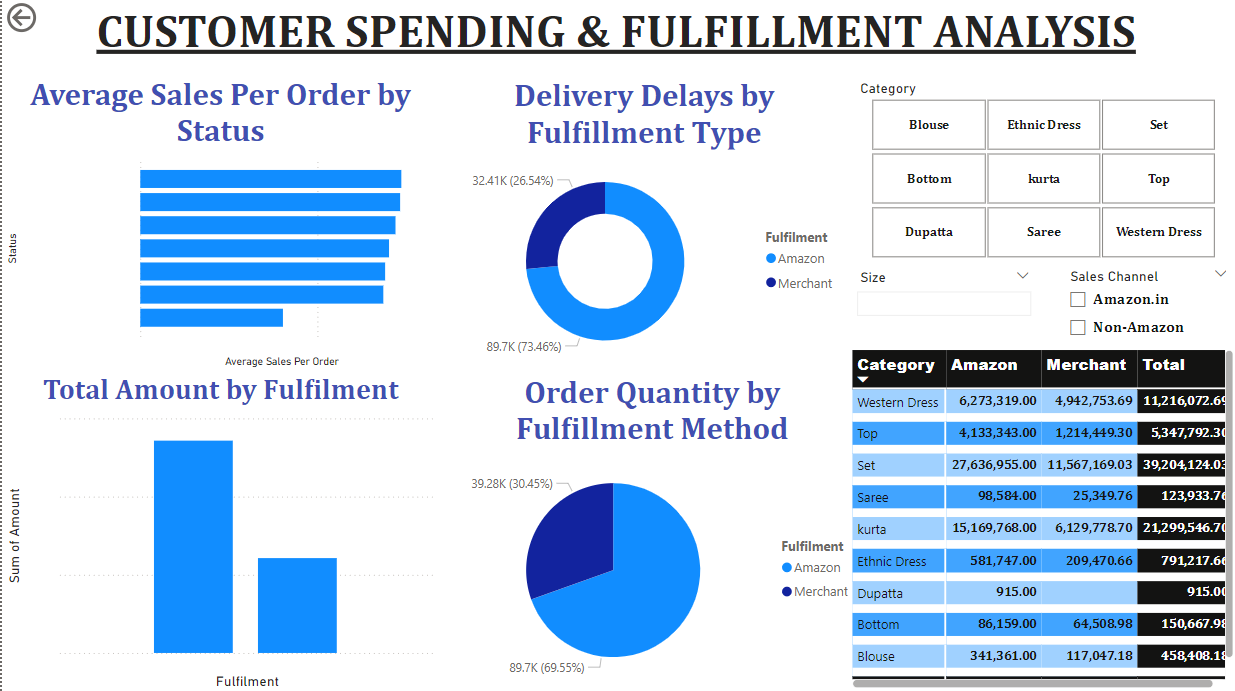

What the dashboard file says about the page in this screenshot:
{"tool":"powerbi","page":{"name":"Page 2","canvas":[1280,720],"ordinal":1},"visuals":[{"type":"textbox","box":[10,0,1251.2,79.9],"z":0},{"type":"barChart","fields":{"Y":["Amazon Sale Report.Average Sales Per Order"],"Category":["Amazon Sale Report.Status"]},"box":[0,79.9,452.6,307.8],"z":1000},{"type":"actionButton","box":[0,0,100,40],"z":2000},{"type":"slicer","fields":{"Values":["Amazon Sale Report.Category"]},"box":[875.4,79.2,404.4,195.9],"z":3000},{"type":"columnChart","title":"Total Amount by Fulfilment","fields":{"Category":["Amazon Sale Report.Fulfilment"],"Y":["Sum(Amazon Sale Report.Amount)"]},"box":[0,386.3,453,333.5],"z":4000},{"type":"pieChart","title":"Order Quantity by Fulfillment Method","fields":{"Category":["Amazon Sale Report.Fulfilment"],"Y":["CountNonNull(Amazon Sale Report.Order ID)"]},"box":[453,387.7,439.1,332.1],"z":5000},{"type":"donutChart","title":" Delivery Delays by Fulfillment Type","fields":{"Category":["Amazon Sale Report.Fulfilment"],"Y":["CountNonNull(Amazon Sale Report.Courier Status)"]},"box":[453,80.6,422.4,307.1],"z":6000},{"type":"slicer","fields":{"Values":["Amazon Sale Report.Sales Channel "]},"box":[1092.2,273.7,187.6,86.2],"z":7000},{"type":"pivotTable","fields":{"Columns":["Amazon Sale Report.Fulfilment"],"Values":["Sum(Amazon Sale Report.Amount)"],"Rows":["Amazon Sale Report.Category"]},"box":[875.4,359.9,404.4,359.9],"z":8000},{"type":"slicer","fields":{"Values":["Amazon Sale Report.Size"]},"box":[875.4,275.1,200.1,61.1],"z":9000}]}

Visuals, with their boxes in screenshot pixels (x1, y1, x2, y2), scaled from the page's 1280x720 canvas onto the 1235x691 screenshot:
textbox: rect(10, 0, 1217, 77)
barChart - Amazon Sale Report.Average Sales Per Order x Amazon Sale Report.Status: rect(0, 77, 437, 372)
actionButton: rect(0, 0, 96, 38)
slicer - Amazon Sale Report.Category: rect(845, 76, 1234, 264)
"Total Amount by Fulfilment" columnChart: rect(0, 371, 437, 690)
"Order Quantity by Fulfillment Method" pieChart: rect(437, 372, 861, 690)
" Delivery Delays by Fulfillment Type" donutChart: rect(437, 77, 845, 372)
slicer - Amazon Sale Report.Sales Channel : rect(1054, 263, 1234, 345)
pivotTable - Amazon Sale Report.Fulfilment x Sum(Amazon Sale Report.Amount): rect(845, 345, 1234, 690)
slicer - Amazon Sale Report.Size: rect(845, 264, 1038, 323)
